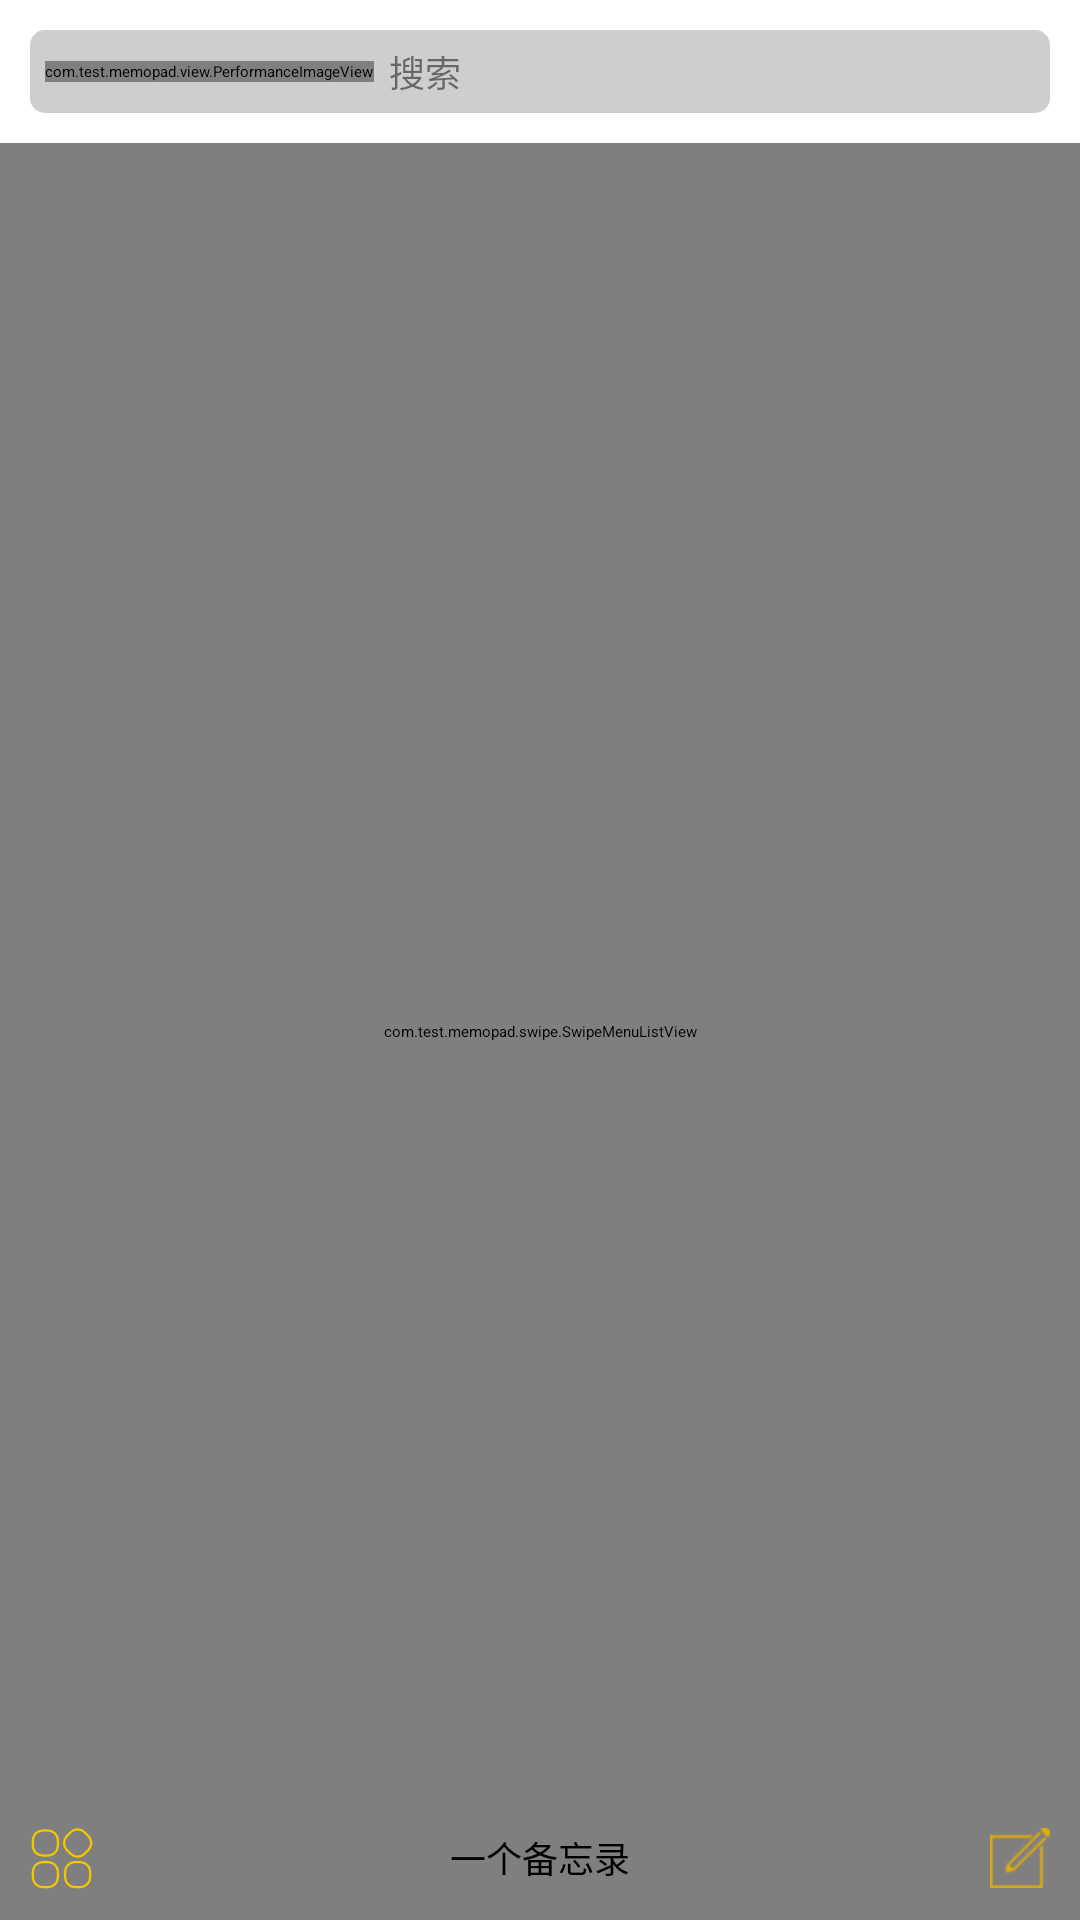

Screen size 1080 × 1920. Icon name, then its box in pixels as (x1,y1,x2,y2):
catory select: (31,1828,93,1889)
